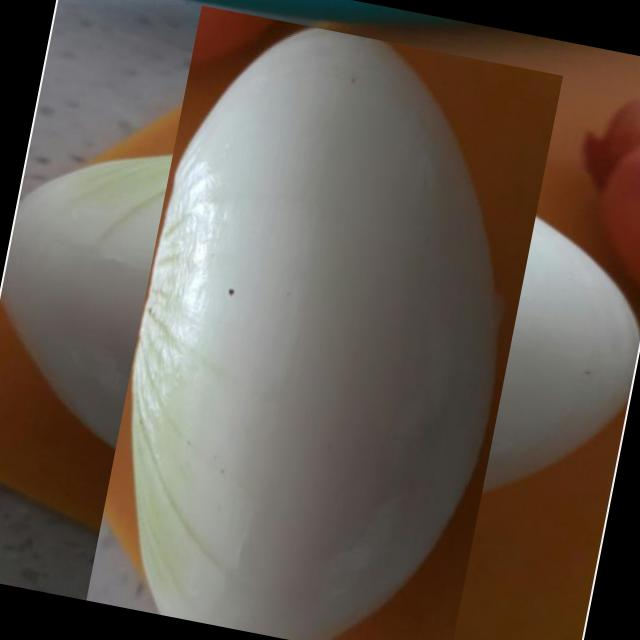Onion: (35, 54, 612, 632)
